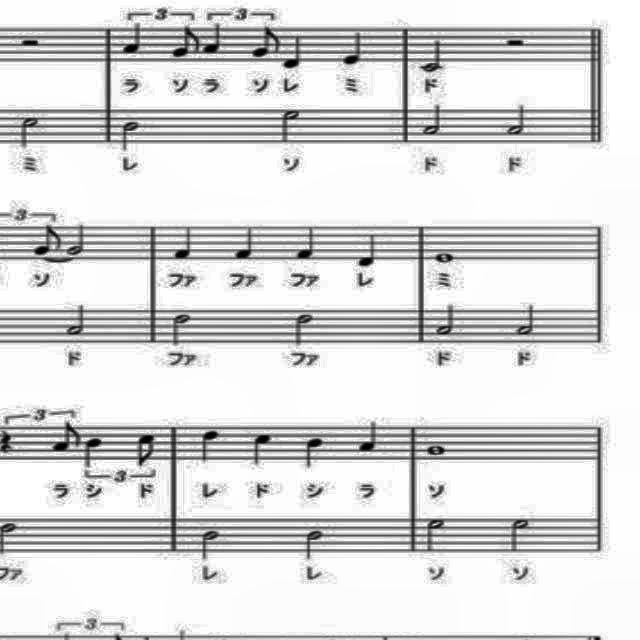Eighth-note: (168, 23, 206, 66), (248, 21, 282, 64), (48, 418, 84, 458), (28, 222, 64, 262), (136, 429, 160, 471)
Full-note: (422, 438, 451, 462), (430, 247, 458, 269)
Half-note: (418, 96, 452, 148), (500, 98, 536, 144), (285, 310, 327, 348), (512, 300, 548, 344), (432, 300, 468, 340), (296, 524, 332, 564), (422, 512, 452, 560), (276, 104, 310, 146), (164, 308, 196, 352), (419, 35, 451, 77), (17, 112, 47, 156), (61, 220, 93, 260), (192, 526, 224, 566), (120, 114, 148, 158), (508, 512, 536, 556), (62, 302, 92, 338)
Half-rest: (494, 30, 534, 54), (11, 30, 45, 54)
Quarter-note: (192, 426, 230, 466), (352, 226, 388, 268), (293, 220, 325, 264), (248, 426, 280, 469), (170, 218, 198, 266), (302, 430, 328, 478), (80, 428, 108, 472), (357, 416, 385, 460), (229, 223, 259, 264), (281, 31, 311, 71), (202, 20, 230, 60), (117, 21, 147, 57), (340, 29, 368, 66)
